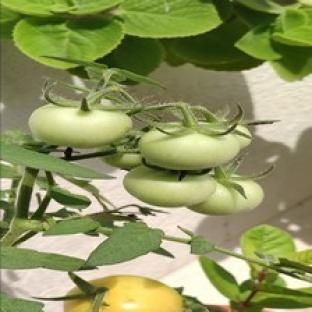Tomato: (30, 105, 132, 147), (140, 129, 239, 169), (123, 166, 215, 207), (91, 275, 183, 311), (189, 179, 263, 214), (102, 152, 142, 169), (234, 124, 252, 149)
